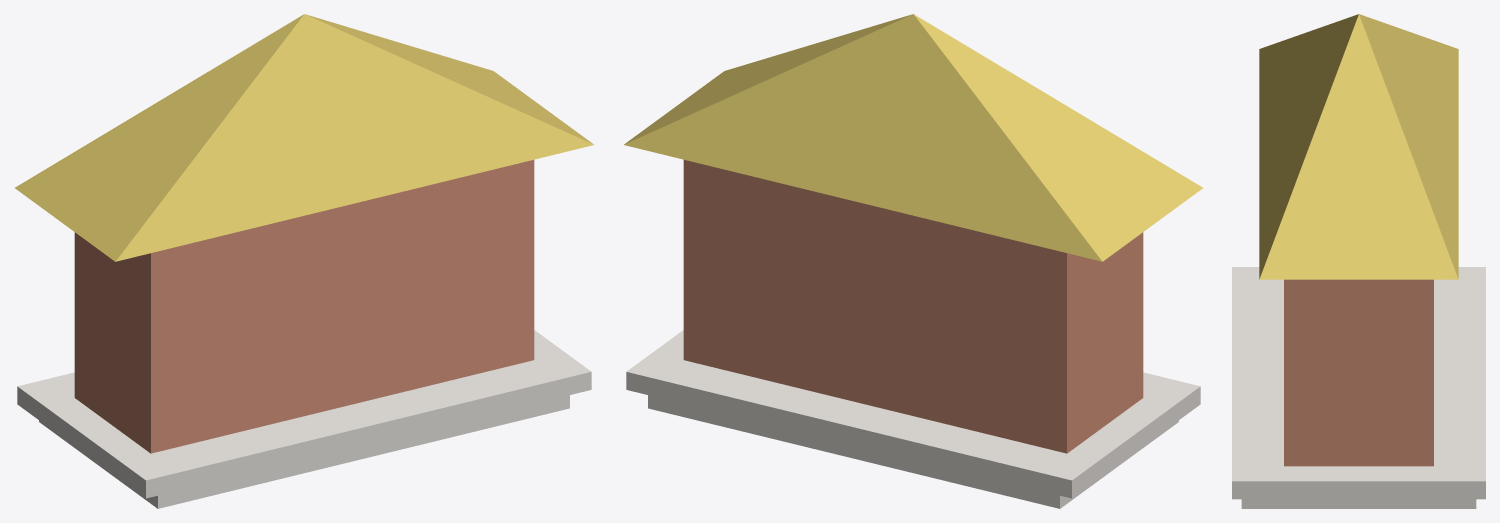
The model's file is 坤宁宫.glb.
The picture shows the model from 3 angles, left to right: view 1: azimuth 30°, elevation 25°; view 2: azimuth 150°, elevation 25°; view 3: azimuth 270°, elevation 25°; orthographic projection.
Parts seen in each view (by area): view 1: body, roof, s1, s0; view 2: body, roof, s1, s0; view 3: roof, s1, body, s0.
Boxes of the visible parts, x1=… form: body: x1=74, y1=160, x2=534, y2=453; roof: x1=15, y1=14, x2=593, y2=261; s1: x1=17, y1=330, x2=591, y2=498; s0: x1=39, y1=395, x2=569, y2=508; body: x1=683, y1=160, x2=1143, y2=453; roof: x1=624, y1=14, x2=1202, y2=261; s1: x1=626, y1=330, x2=1200, y2=498; s0: x1=648, y1=395, x2=1178, y2=508; roof: x1=1259, y1=14, x2=1458, y2=279; s1: x1=1232, y1=267, x2=1485, y2=499; body: x1=1284, y1=279, x2=1433, y2=466; s0: x1=1241, y1=499, x2=1476, y2=508.
Bounding box in the file's own units: 5 × 4 × 2.33.
